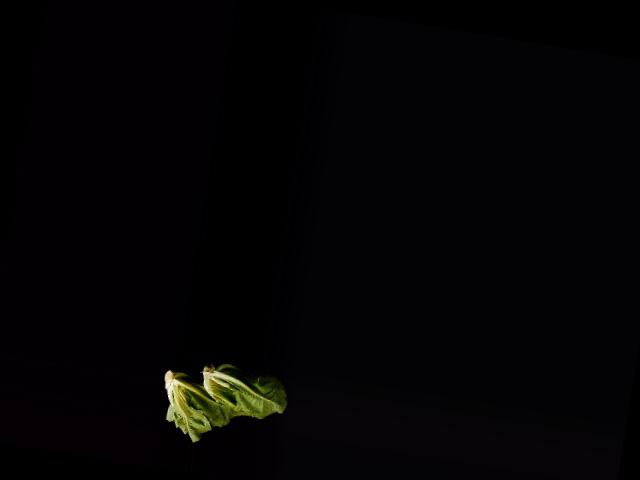lettuce: (155, 359, 253, 448)
